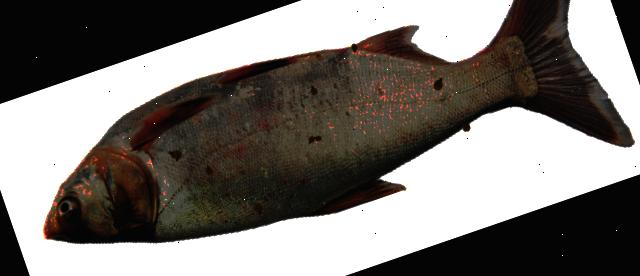Parasitic Disease: (44, 0, 632, 241)
